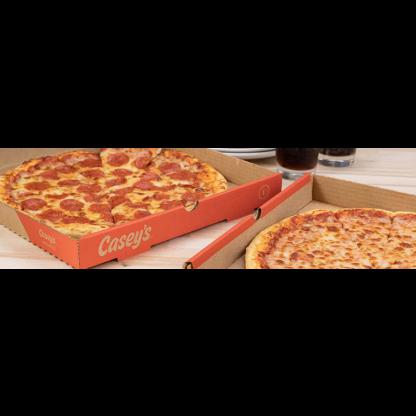pizza: (0, 147, 227, 234), (245, 205, 415, 267)
